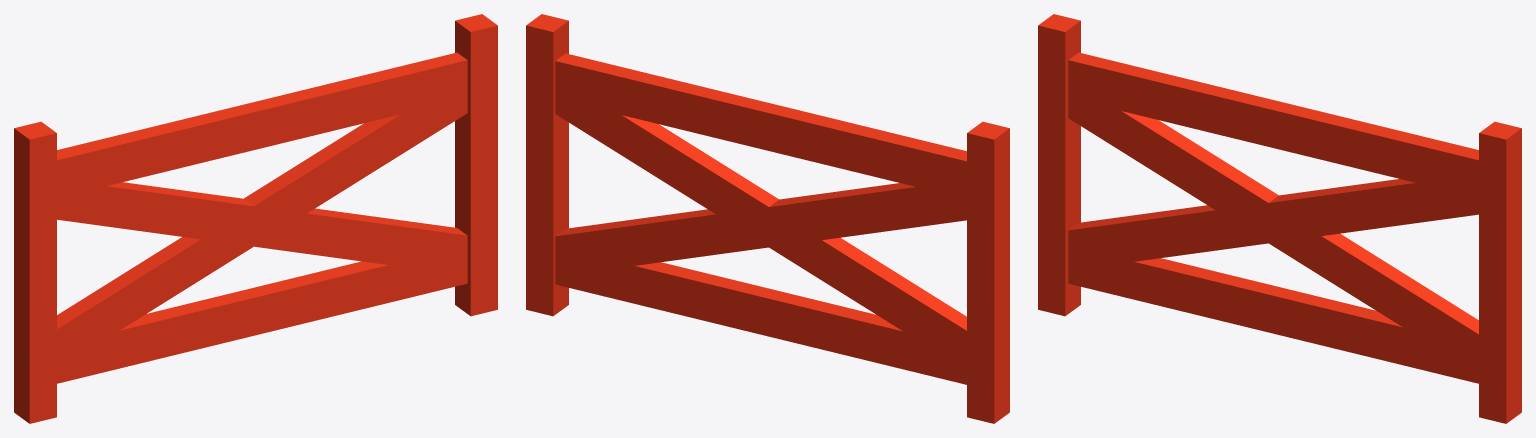
Rendered from cross_fences_1.FBX.
3 renders of one model, left to right at view 1: azimuth 30°, elevation 25°; view 2: azimuth 150°, elevation 25°; view 3: azimuth 330°, elevation 25°, orthographic.
Parts seen in each view (by area): view 1: cross_fences_1; view 2: cross_fences_1; view 3: cross_fences_1.
Boxes of the visible parts, x1,y1,x2,y2 form: cross_fences_1: [14, 14, 497, 423]; cross_fences_1: [526, 14, 1009, 423]; cross_fences_1: [1038, 14, 1521, 423].
Size of the model in its own units: 1.35 by 0.7815 by 0.0782.
Materials: 1 (1 with a texture image).
